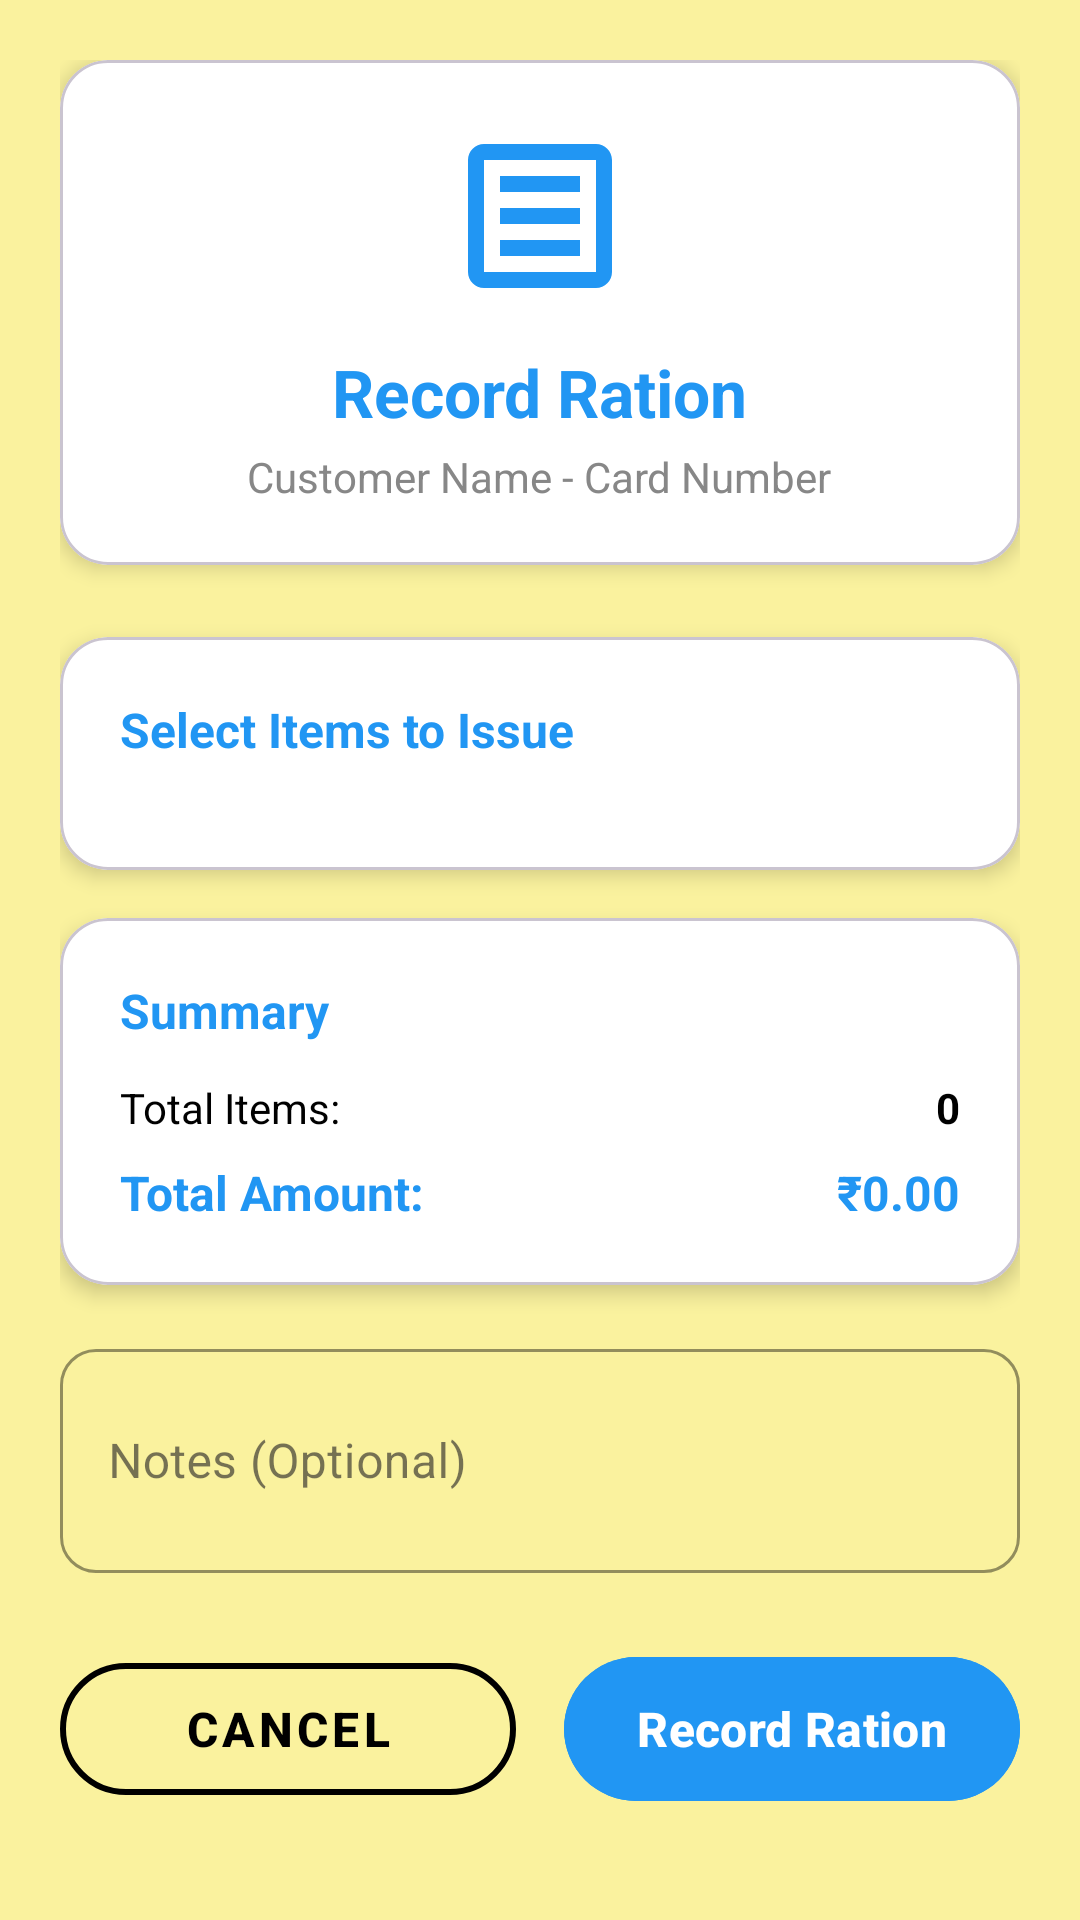

Screen size 1080w x 1920h. Icon name, then its box in pixels as detection(x1, y1, x2, y2):
ration card: detection(468, 144, 612, 288)
